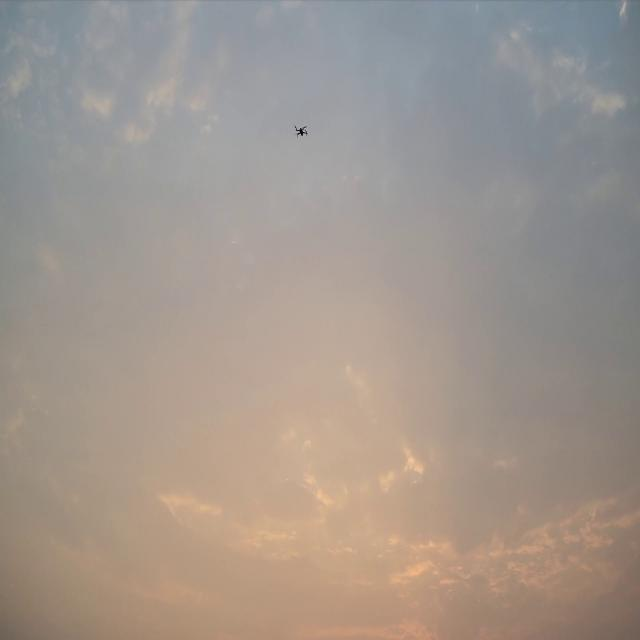UAV: (294, 125, 308, 137)
